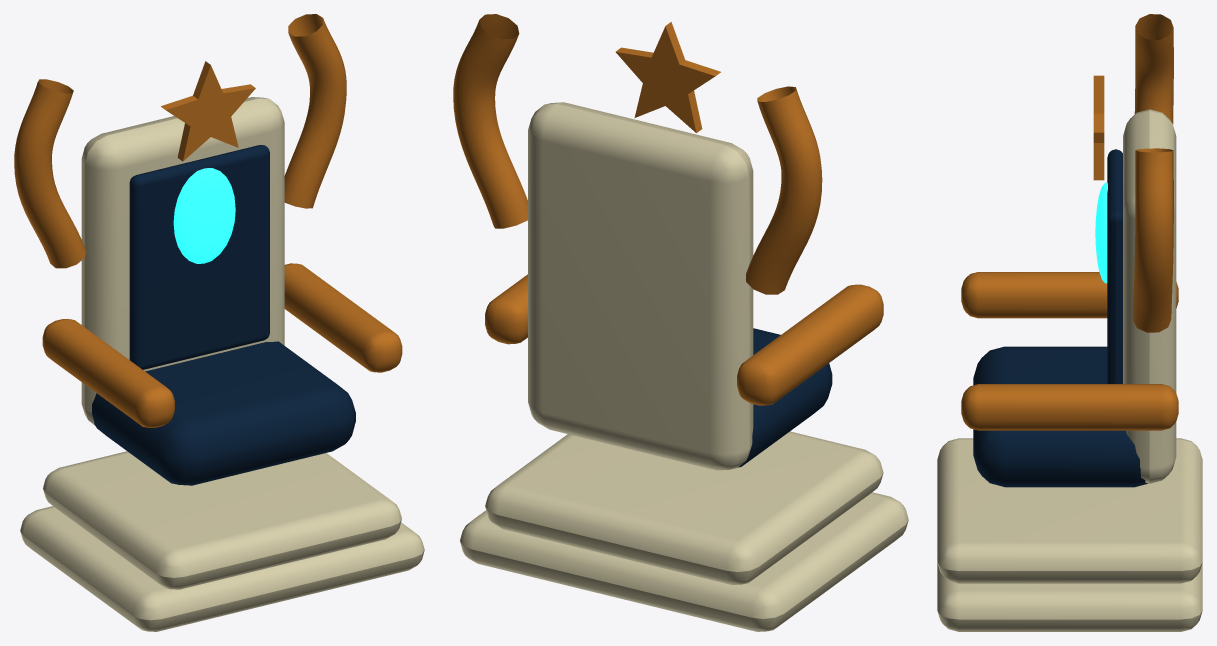
File: dragon_throne.glb
3 views of the same model, side by side, from view 1: azimuth 30°, elevation 25°; view 2: azimuth 150°, elevation 25°; view 3: azimuth 270°, elevation 25° (orthographic). The views are drawn at different scales.
Parts seen in each view (by area): view 1: throne_platform.001, throne_seat, throne_back_cushion, throne_back, throne_platform, throne_dragon_horn, throne_dragon_horn.001, throne_arm, throne_arm.001, throne_star_jewel, throne_crown_star; view 2: throne_back, throne_platform.001, throne_platform, throne_dragon_horn.001, throne_dragon_horn, throne_arm, throne_crown_star, throne_seat, throne_arm.001; view 3: throne_platform.001, throne_seat, throne_platform, throne_arm.001, throne_back, throne_dragon_horn.001, throne_arm, throne_dragon_horn, throne_back_cushion, throne_crown_star, throne_star_jewel.
Part boxes in pixels (x1,y1,x2,y2): throne_platform.001: [43, 451, 401, 589]; throne_seat: [91, 341, 355, 485]; throne_back_cushion: [129, 145, 269, 369]; throne_back: [81, 97, 284, 425]; throne_platform: [20, 506, 424, 631]; throne_dragon_horn: [14, 79, 86, 268]; throne_dragon_horn.001: [284, 14, 346, 208]; throne_arm: [42, 319, 174, 427]; throne_arm.001: [284, 263, 402, 372]; throne_star_jewel: [173, 168, 235, 263]; throne_crown_star: [161, 61, 255, 161]; throne_back: [528, 102, 753, 470]; throne_platform.001: [485, 431, 883, 584]; throne_platform: [460, 492, 908, 631]; throne_dragon_horn.001: [453, 14, 527, 228]; throne_dragon_horn: [746, 86, 822, 294]; throne_arm: [737, 284, 883, 405]; throne_crown_star: [615, 22, 720, 132]; throne_seat: [738, 328, 832, 467]; throne_arm.001: [485, 274, 527, 344]; throne_platform.001: [937, 438, 1202, 583]; throne_seat: [973, 346, 1147, 487]; throne_platform: [937, 563, 1202, 631]; throne_arm.001: [961, 384, 1178, 430]; throne_back: [1123, 109, 1176, 483]; throne_dragon_horn.001: [1132, 148, 1173, 332]; throne_arm: [961, 272, 1178, 318]; throne_dragon_horn: [1134, 14, 1173, 123]; throne_back_cushion: [1107, 149, 1122, 383]; throne_crown_star: [1093, 75, 1104, 180]; throne_star_jewel: [1095, 182, 1107, 283].
Bounding box in the file's own units: 1.58 × 2.25 × 1.1.
